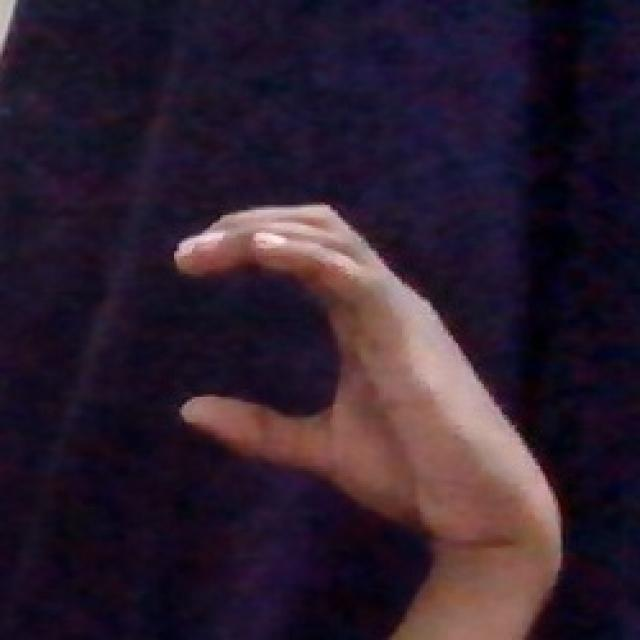Alphabet-C: (177, 205, 563, 640)
